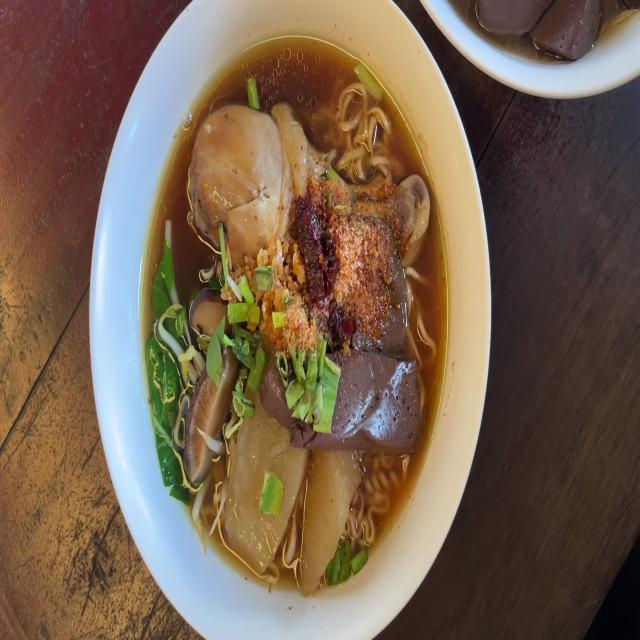boiled_chicken_blood_jelly: (323, 356, 417, 446)
chicken_drumstick: (185, 101, 431, 273)
daikon_radish: (232, 431, 354, 579)
noodle: (137, 32, 460, 597)
